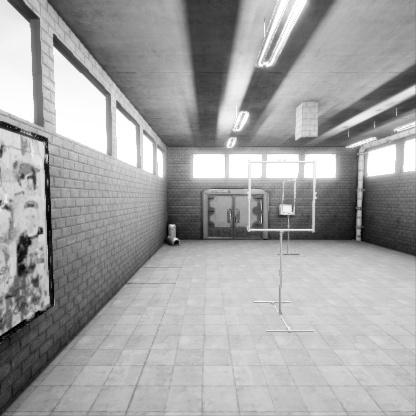gate: (249, 188, 318, 257), (282, 202, 296, 238)
